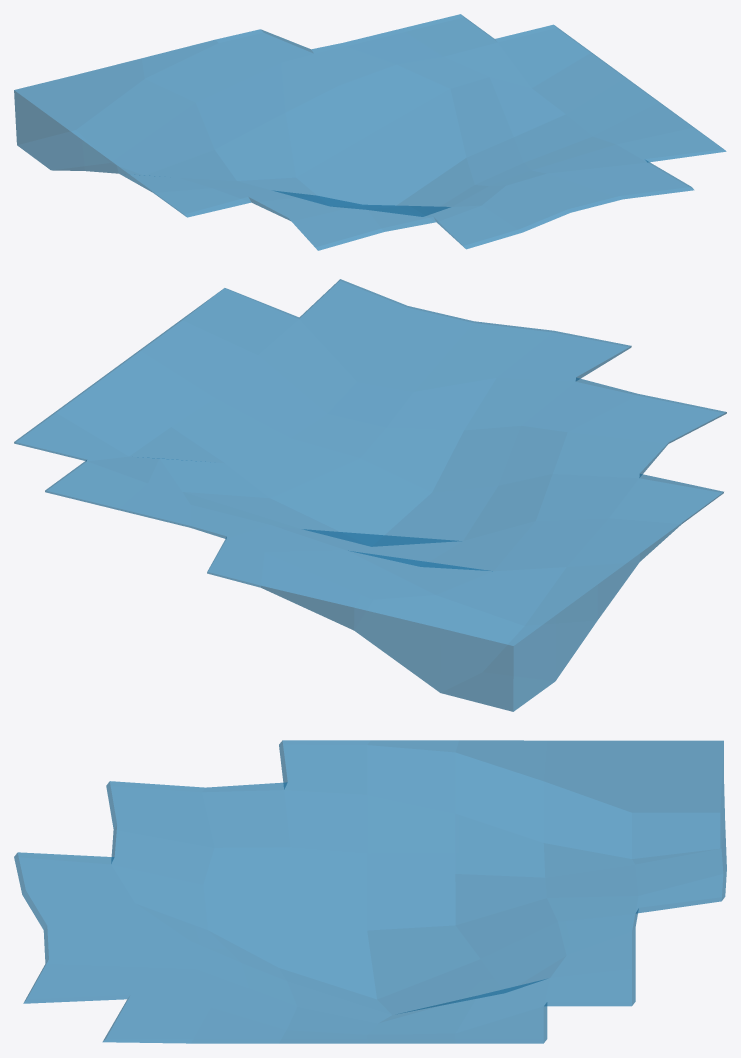
The model's file is Waterwithgoodnormals.fbx.
3 renders of one model, top to bottom at view 1: azimuth 30°, elevation 25°; view 2: azimuth 150°, elevation 25°; view 3: azimuth 270°, elevation 25°, orthographic. The views are drawn at different scales.
Visible parts, largest first — view 1: Water; view 2: Water; view 3: Water.
Part boxes in pixels (x1,y1,x2,y2): Water: (14, 14, 726, 250); Water: (14, 279, 726, 711); Water: (14, 740, 726, 1043).
Bounding box in the file's own units: 13350 × 2116 × 13430.
